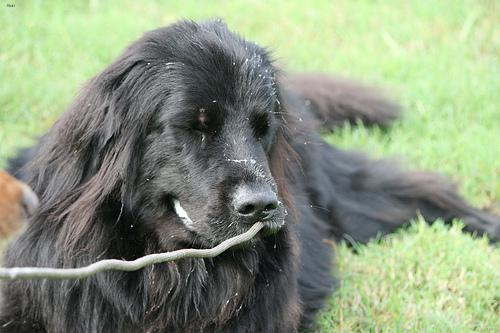dog-newfoundland: (86, 25, 287, 248)
